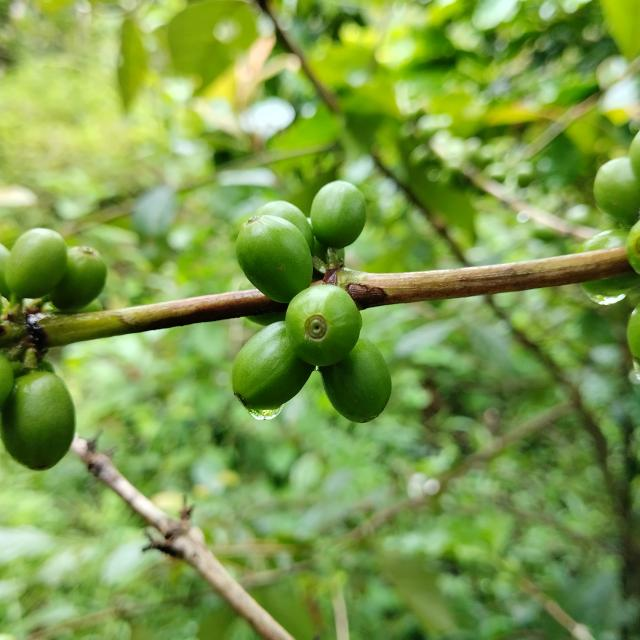green: (0, 371, 75, 471), (232, 321, 314, 411), (236, 215, 313, 303), (285, 284, 362, 366), (319, 339, 392, 423), (3, 228, 66, 298), (310, 180, 367, 248), (48, 246, 106, 310), (595, 156, 640, 225), (255, 200, 314, 251), (312, 239, 328, 262), (338, 248, 345, 260), (307, 217, 312, 226)
